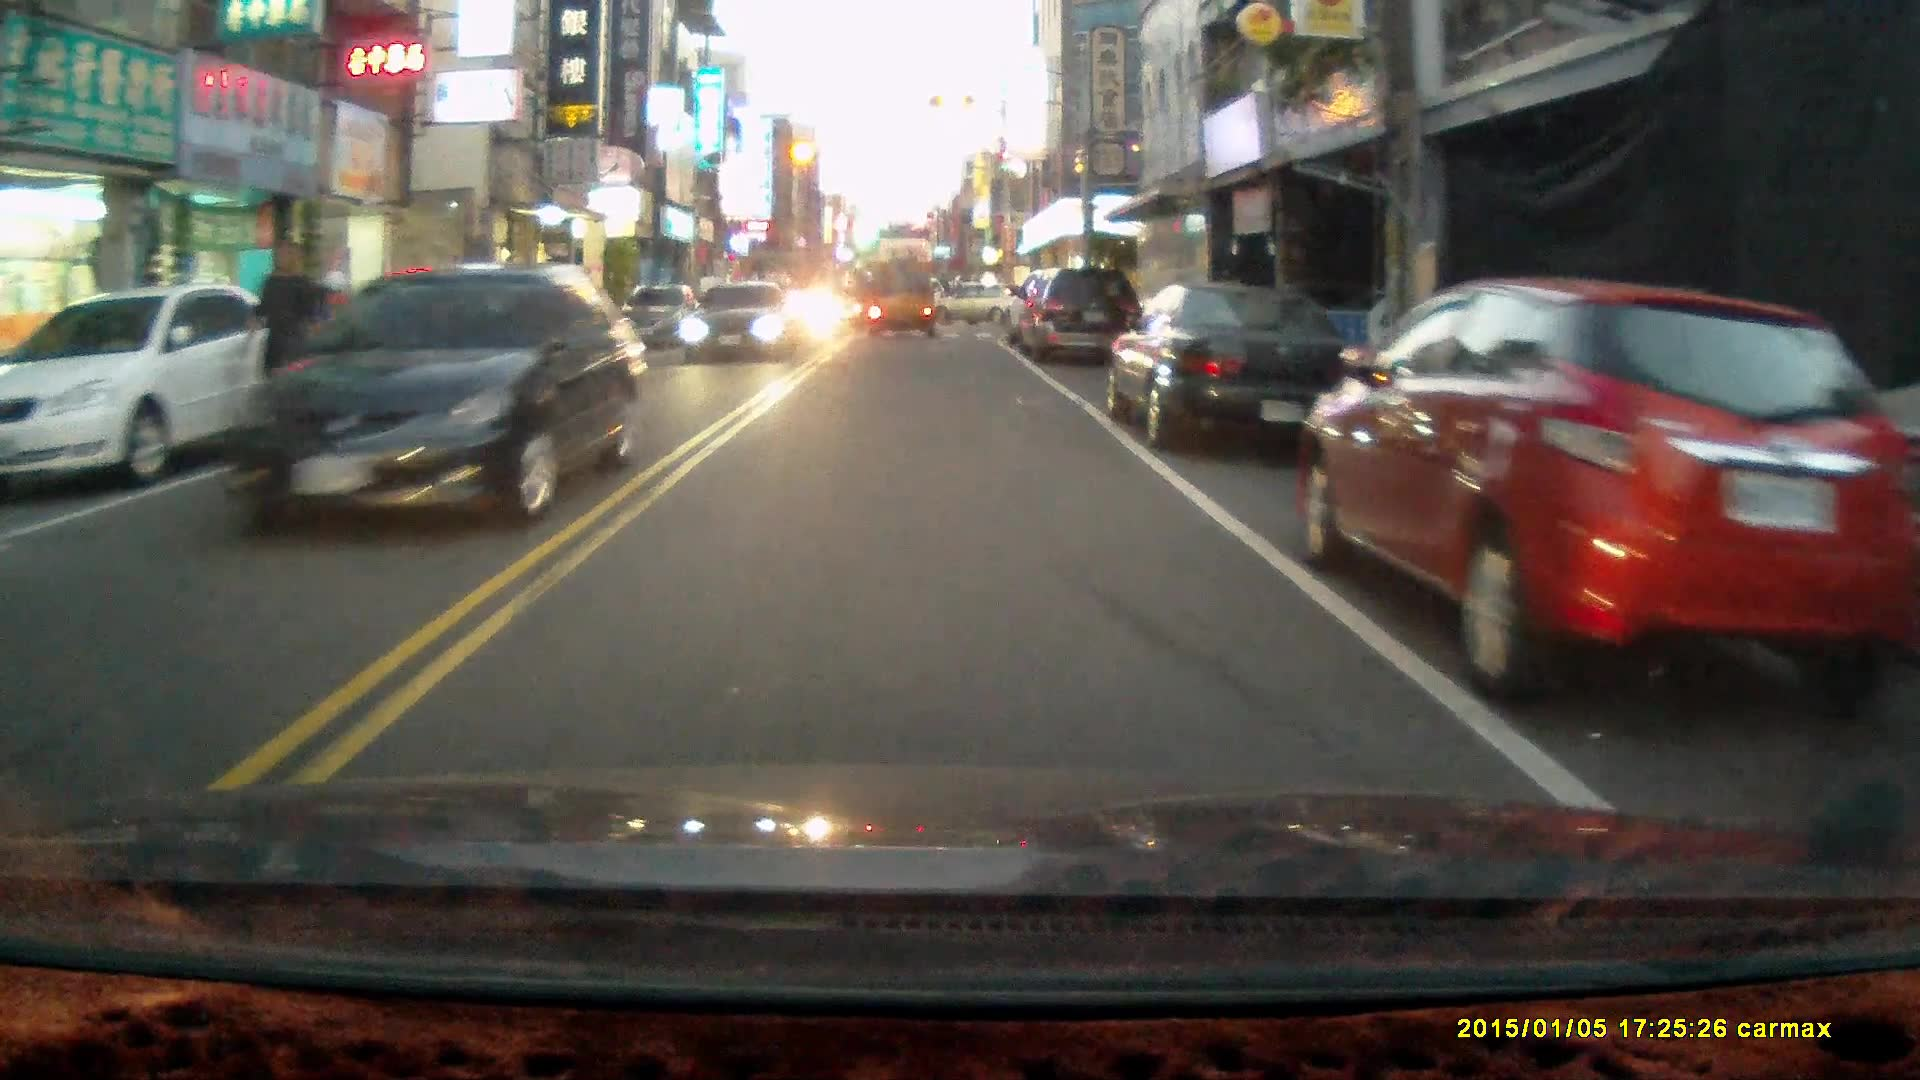pedestrian: (241, 239, 326, 439)
vehicle: (1303, 277, 1920, 708), (241, 265, 650, 533), (1, 286, 314, 497), (1105, 281, 1372, 454), (1014, 267, 1147, 368), (686, 285, 796, 370), (868, 260, 940, 342)
